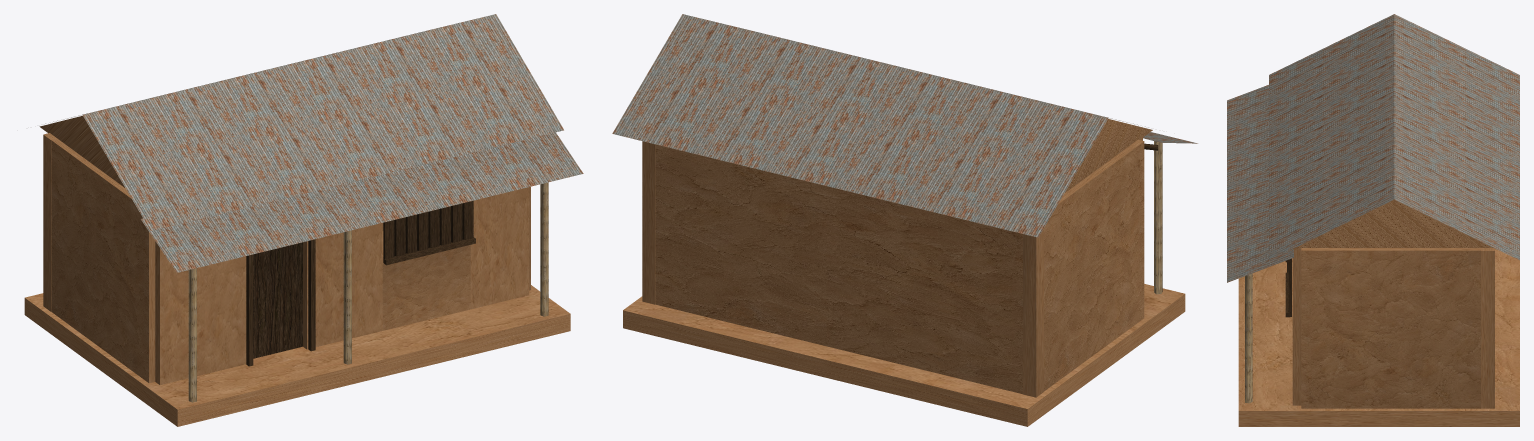
Rendered from prop_house_lod1.glb.
3 renders of one model, left to right at view 1: azimuth 30°, elevation 25°; view 2: azimuth 150°, elevation 25°; view 3: azimuth 270°, elevation 25°, orthographic. The views are drawn at different scales.
Visible parts, largest first — view 1: prop_house; view 2: prop_house; view 3: prop_house.
Boxes of the visible parts, left/top/right/bottom form: prop_house: left=24, top=14, right=583, bottom=426; prop_house: left=612, top=14, right=1197, bottom=426; prop_house: left=1227, top=14, right=1519, bottom=426.
Size of the model in its own units: 6 by 3.5 by 4.
Materials: 4 (4 with a texture image).
